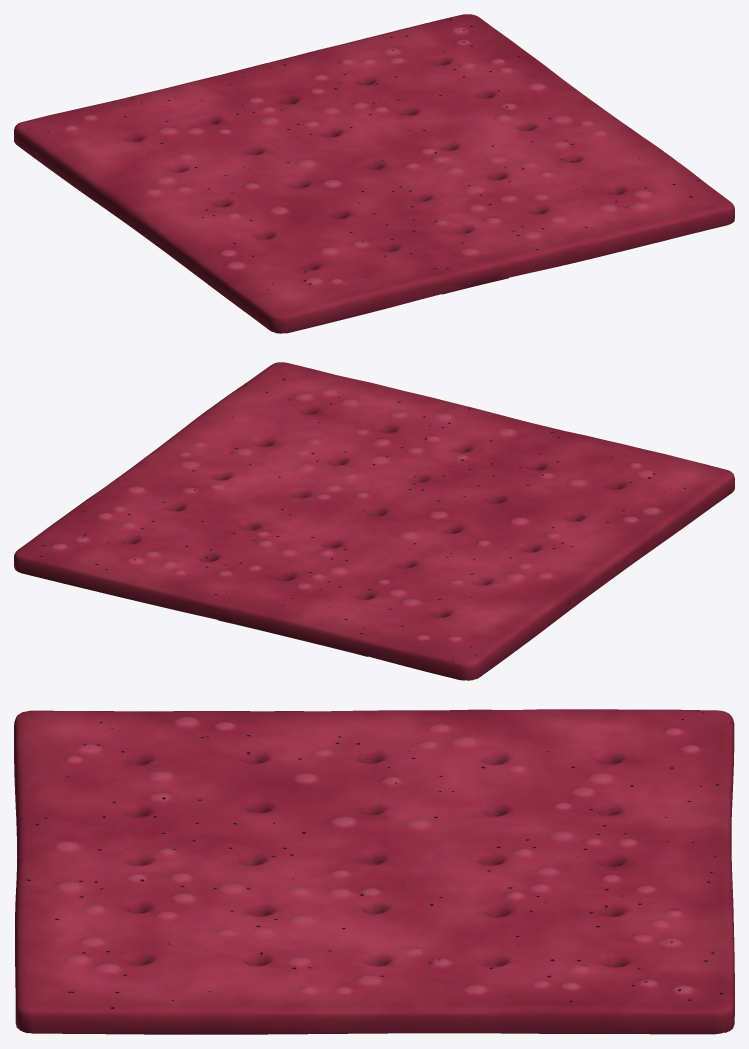
File: cracker--beet-puree.glb
3 renders of one model, top to bottom at view 1: azimuth 30°, elevation 25°; view 2: azimuth 150°, elevation 25°; view 3: azimuth 270°, elevation 25°, orthographic. The views are drawn at different scales.
Parts seen in each view (by area): view 1: cracker_beet-puree; view 2: cracker_beet-puree; view 3: cracker_beet-puree.
Boxes of the visible parts, box(x1,y1,x2,y2) form: cracker_beet-puree: box(14, 14, 734, 333); cracker_beet-puree: box(14, 362, 734, 680); cracker_beet-puree: box(14, 709, 734, 1034).
Bounding box in the file's own units: 1.01 × 0.0442 × 1.
Materials: 1 (1 with a texture image).
